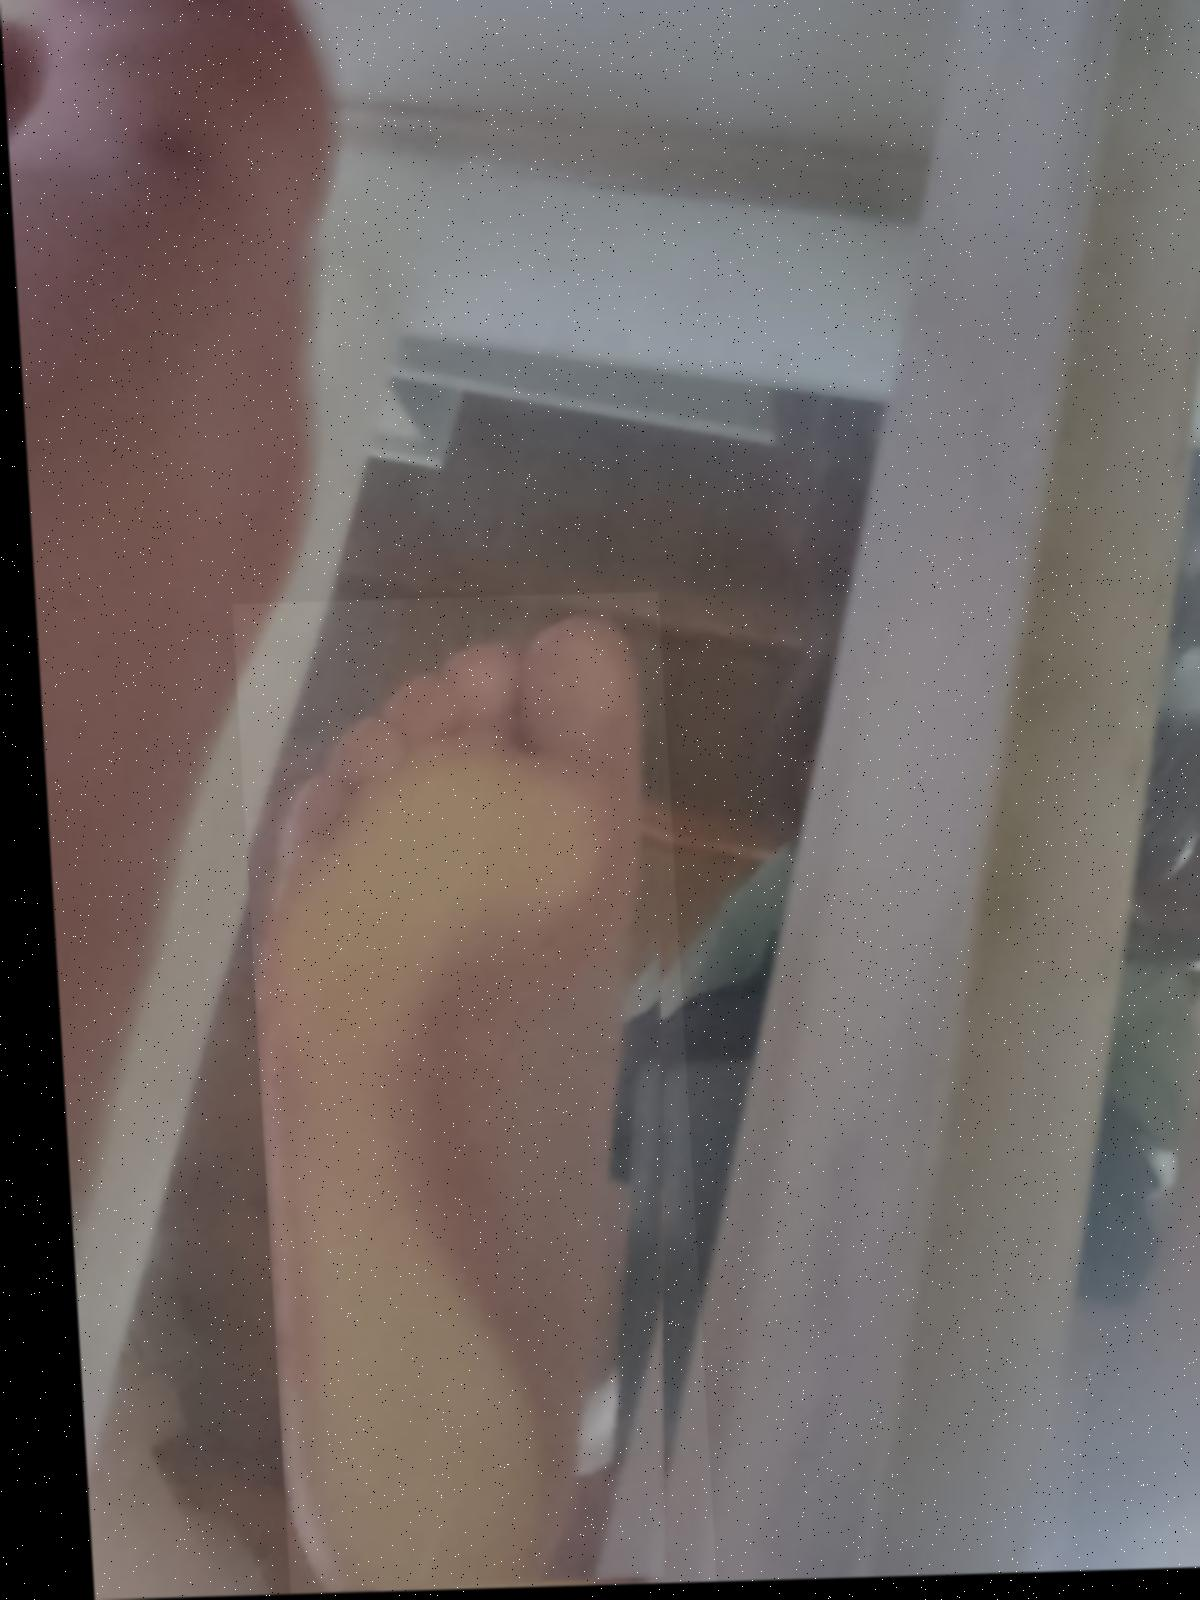Present: (224, 596, 697, 1595)
